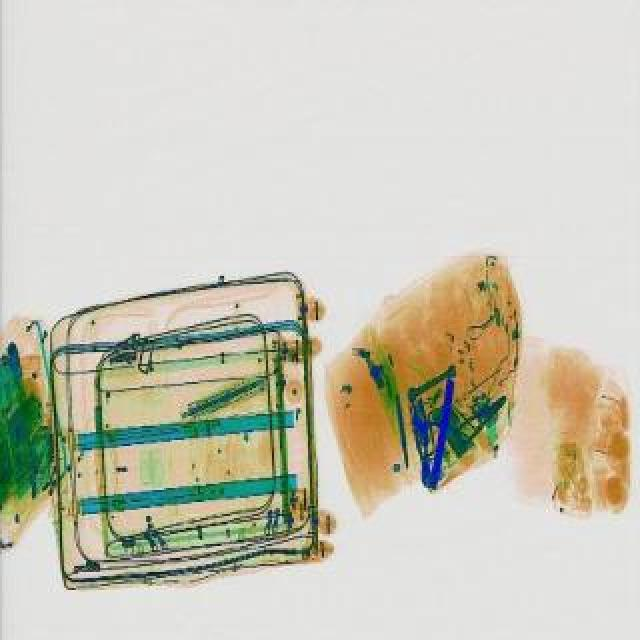scissors: (404, 360, 460, 398)
wrench: (448, 386, 512, 446), (410, 396, 438, 488)
